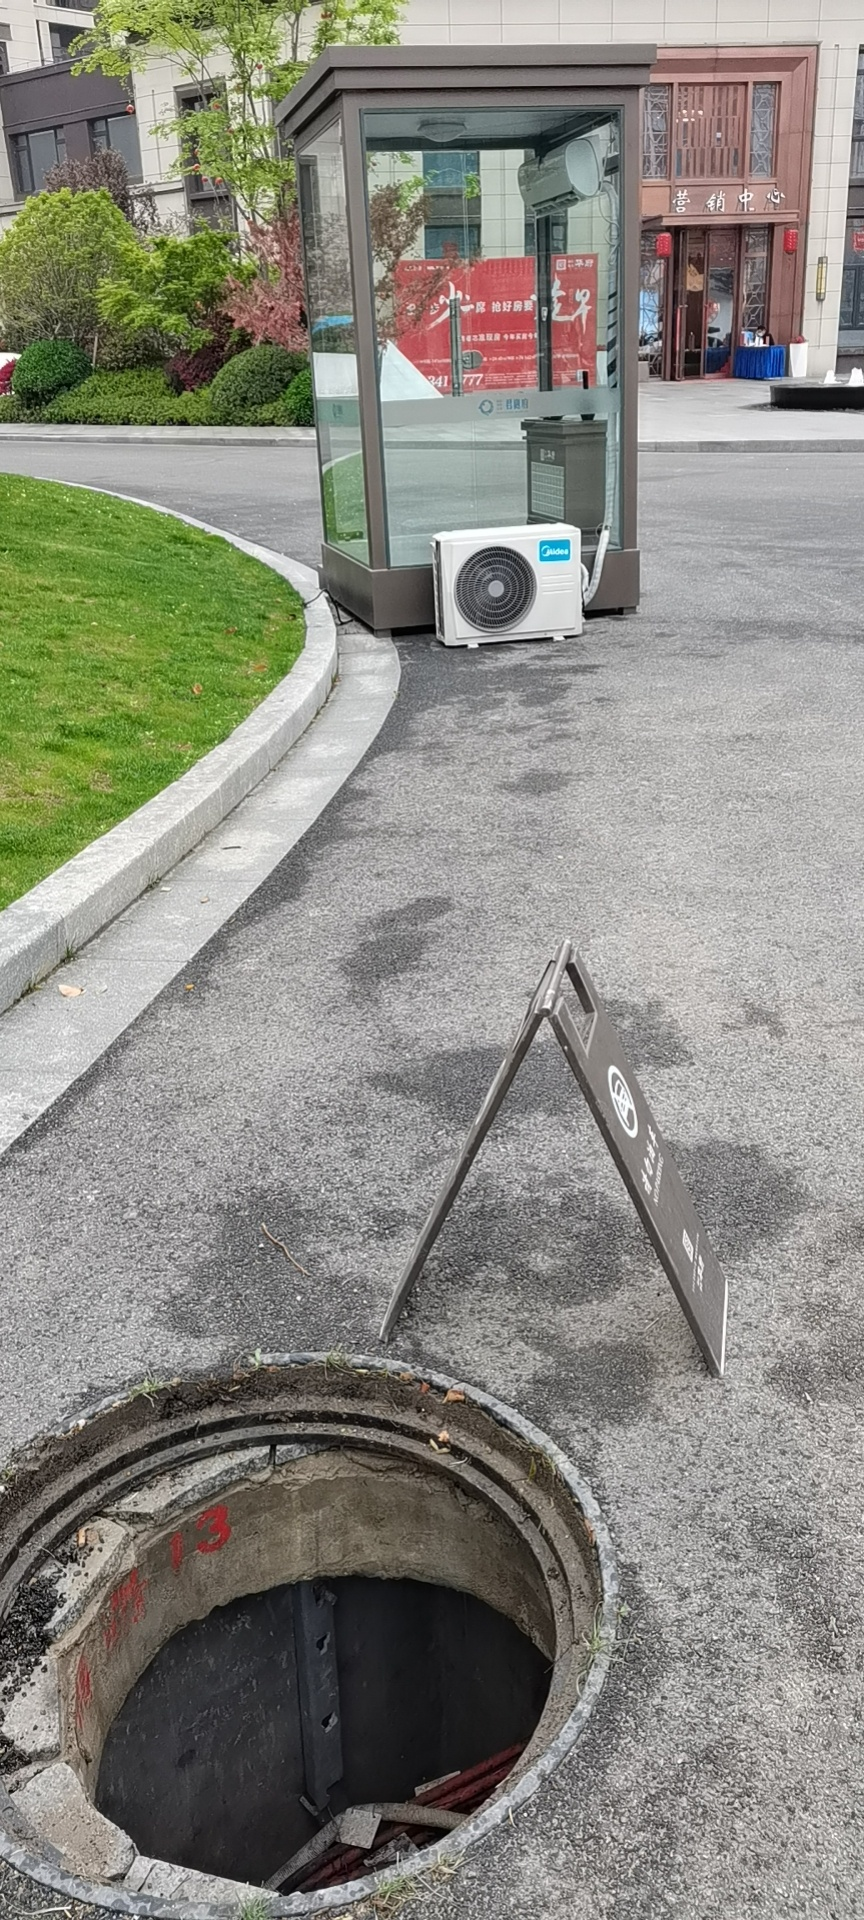lose: (1, 1342, 628, 1919)
